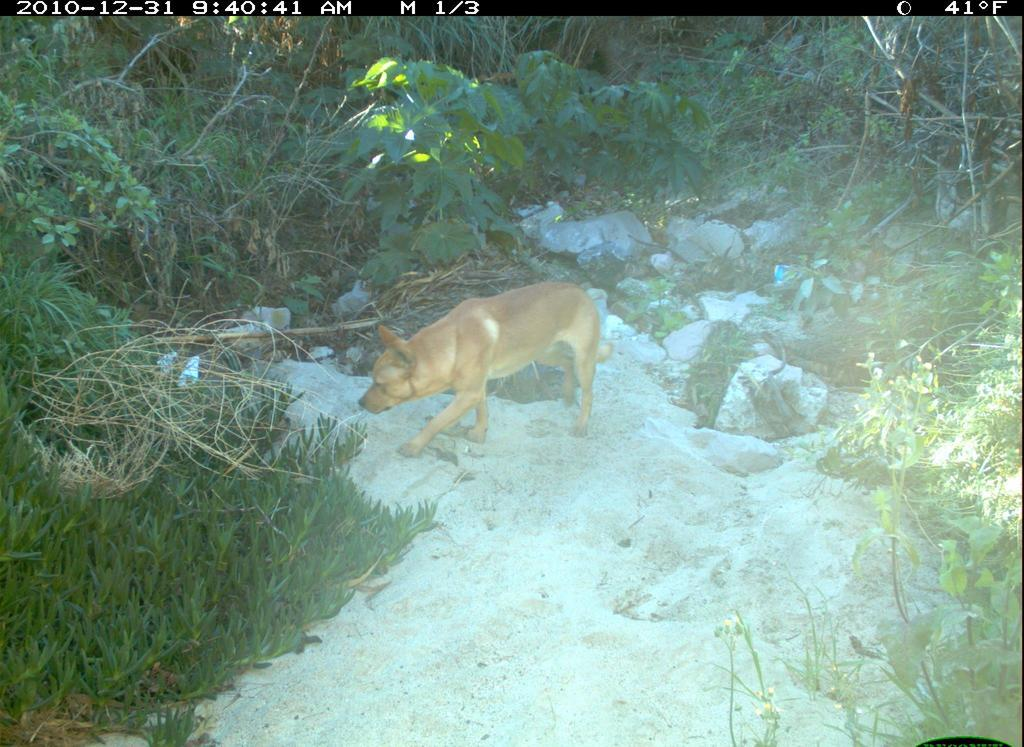dog: (360, 273, 620, 466)
